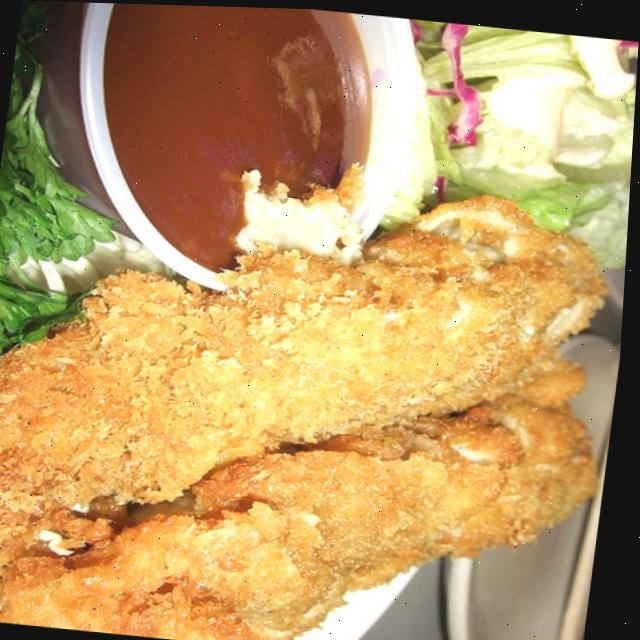鸡肉料理 含炸鸡: (0, 142, 633, 640)
